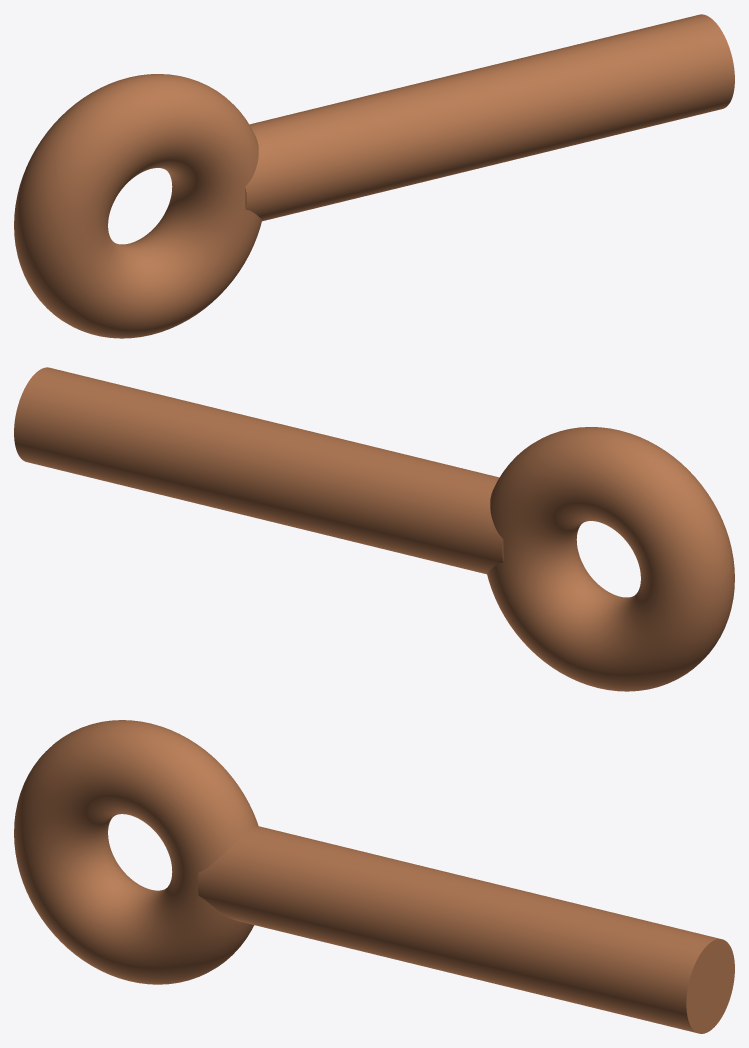
File: Key.fbx
The picture shows the model from 3 angles, top to bottom: view 1: azimuth 30°, elevation 25°; view 2: azimuth 150°, elevation 25°; view 3: azimuth 330°, elevation 25°; orthographic projection.
Parts seen in each view (by area): view 1: node_id7, node_id5; view 2: node_id7, node_id5; view 3: node_id7, node_id5.
Boxes of the visible parts, bbox=[...] form: node_id7: bbox=[245, 14, 734, 221]; node_id5: bbox=[14, 74, 261, 338]; node_id7: bbox=[14, 367, 503, 574]; node_id5: bbox=[487, 427, 734, 691]; node_id7: bbox=[198, 826, 734, 1033]; node_id5: bbox=[14, 720, 258, 984].
Size of the model in its own units: 0.512 by 0.1782 by 0.0624.
Materials: 2 (2 with a texture image).
